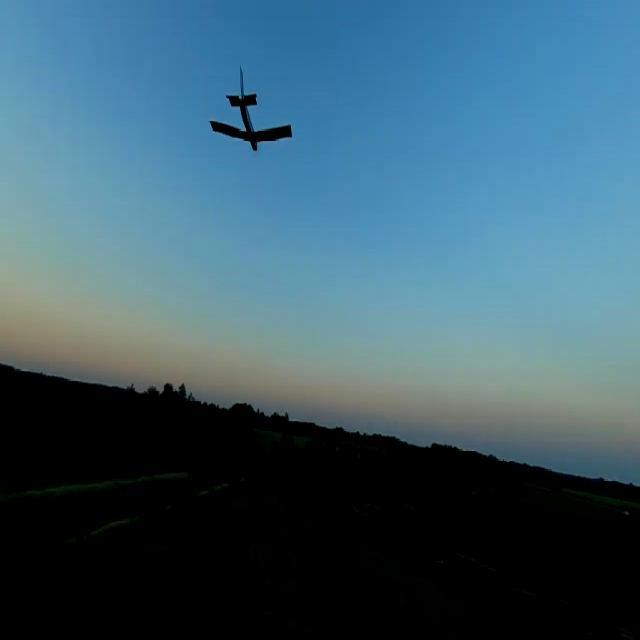iha: (236, 32, 261, 68)
